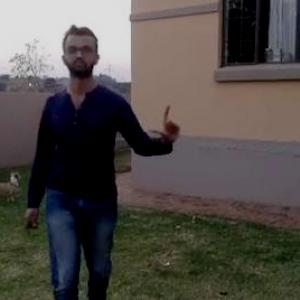land_hand: (147, 100, 189, 146)
